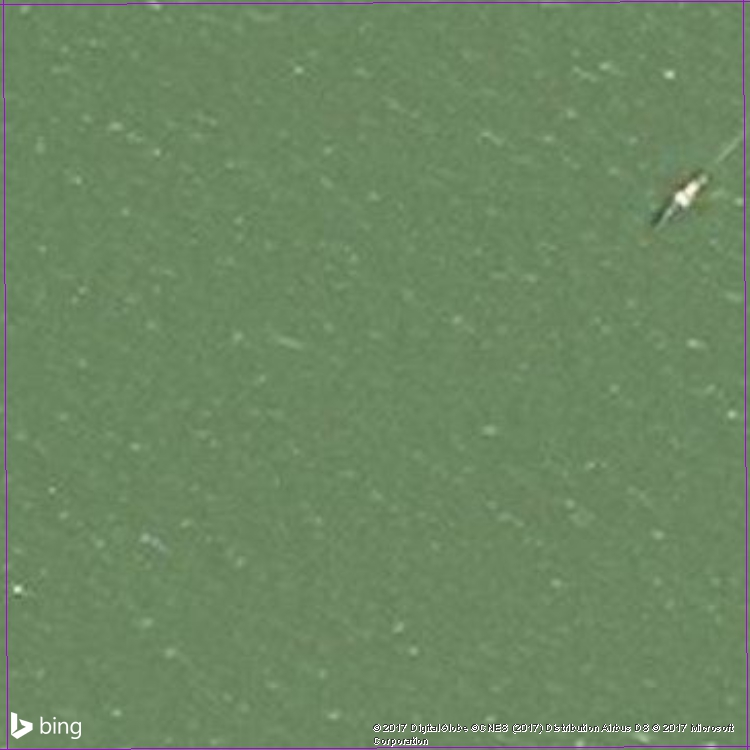boat: (638, 162, 720, 238)
